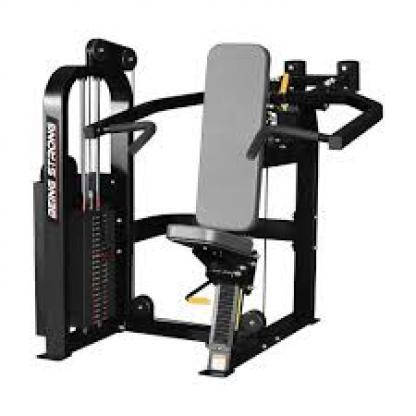shoulder press machine: (20, 20, 403, 390)
